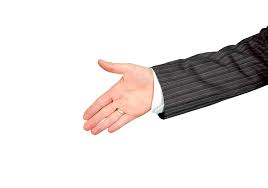hand: (74, 53, 167, 134)
